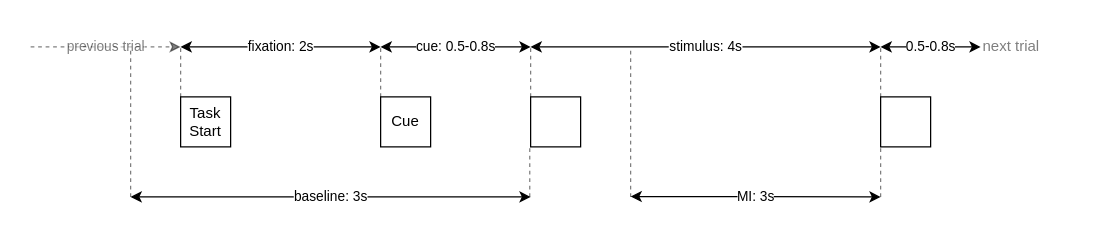
Some shapes in this 1103 by 230 pixel diagram are drawn without their labels. Here are the shapes that lost their labels. From the top down, the centre of each, then its label:
pixel 555 121: MI Start
pixel 905 121: Task End
